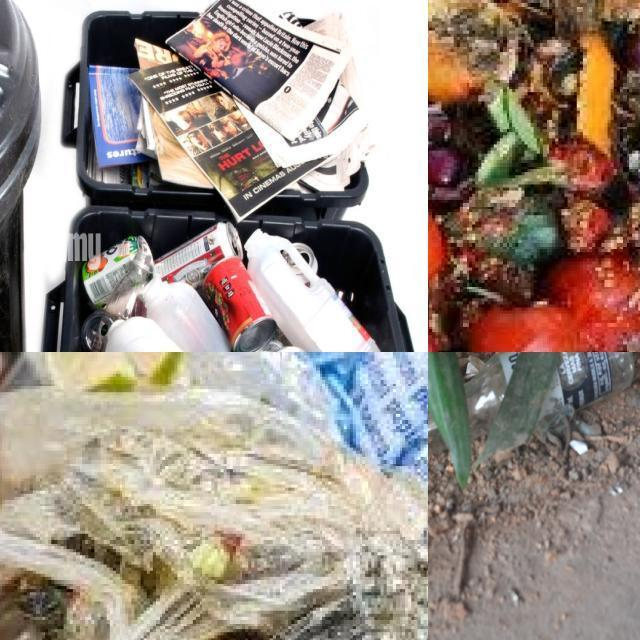Garbage: (0, 352, 428, 640), (428, 0, 640, 352), (428, 352, 640, 567), (81, 223, 380, 352)
Glass_bottle: (540, 352, 634, 425), (465, 352, 520, 440)
Plastic_Container: (247, 231, 380, 352), (141, 275, 231, 352)
Tin_box: (203, 257, 277, 352)
can: (155, 221, 242, 289), (81, 235, 138, 306)
contaminated_waste: (0, 389, 428, 640), (349, 352, 428, 486)
